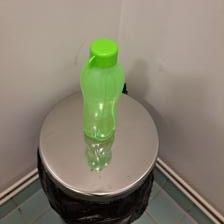bottle: (76, 40, 127, 140)
